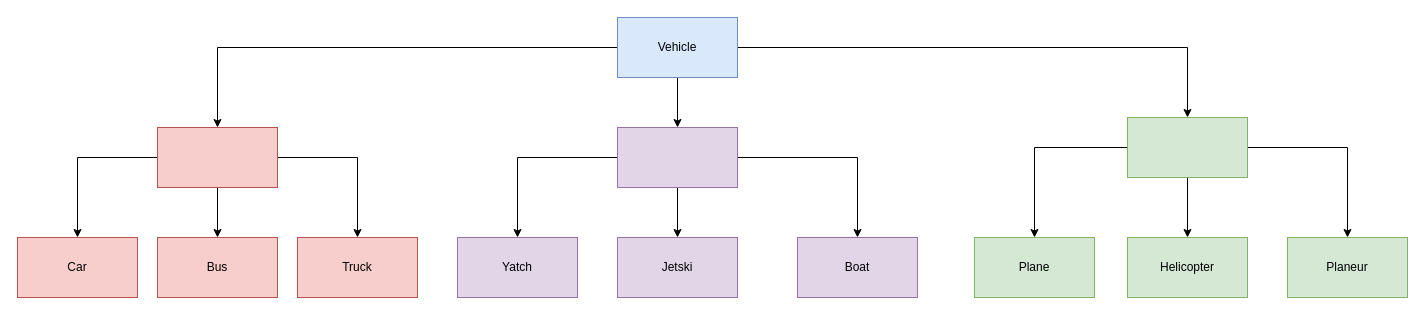
Image size: 1425x315. Some labels were removed from this diagram. The shapes that lost their labels are listed below. From the top down, each one's box as (x1, y1, x2, y2) in pixels, then its label:
(156, 126, 278, 188): LandVehicle
(616, 126, 738, 188): SeaVehicle
(1126, 116, 1248, 178): AirVehicle
